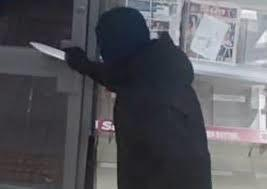weapon: (25, 36, 85, 68)
